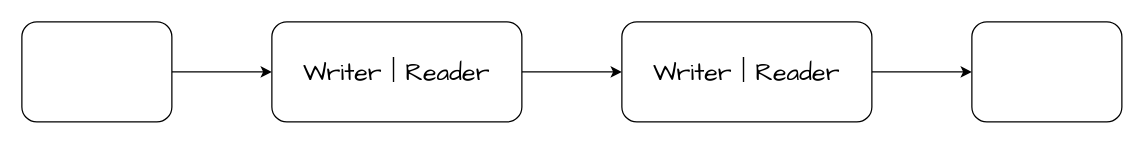
Image size: 1144x144. Some labels were removed from this diagram. The shapes that lost their labels are listed below. From the top down, each one's box as (x1, y1, x2, y2) in pixels, then its label:
(21, 21, 172, 122): Reader
(971, 21, 1122, 122): Writer
